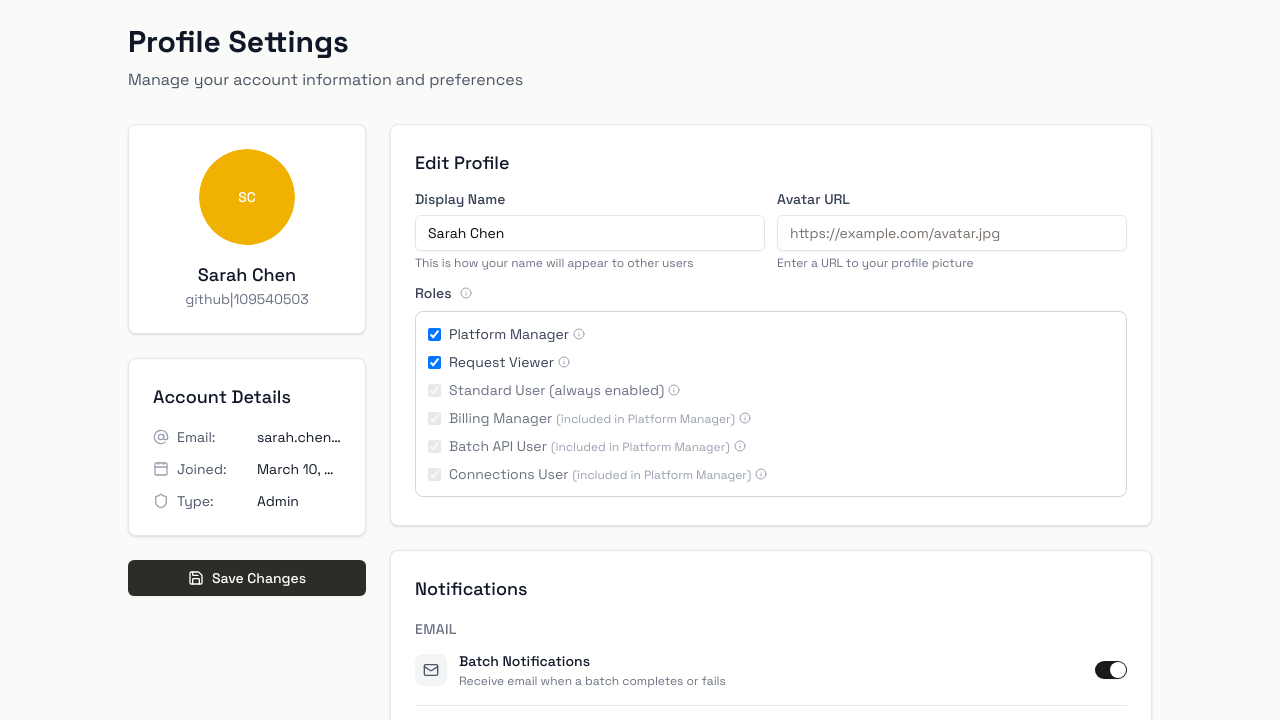
Test case: Profile Component › allows editing display name and avatar url
Expected: the heading "Profile Settings" is shown, [128,22,349,61]
Expected: the field labelled "Avatar URL" is empty, [777,215,1127,251]
Replace the text in the field labelled "Display Name" with "Sarah J. Chen" at coordinates (590, 233), box [415,215,765,251]
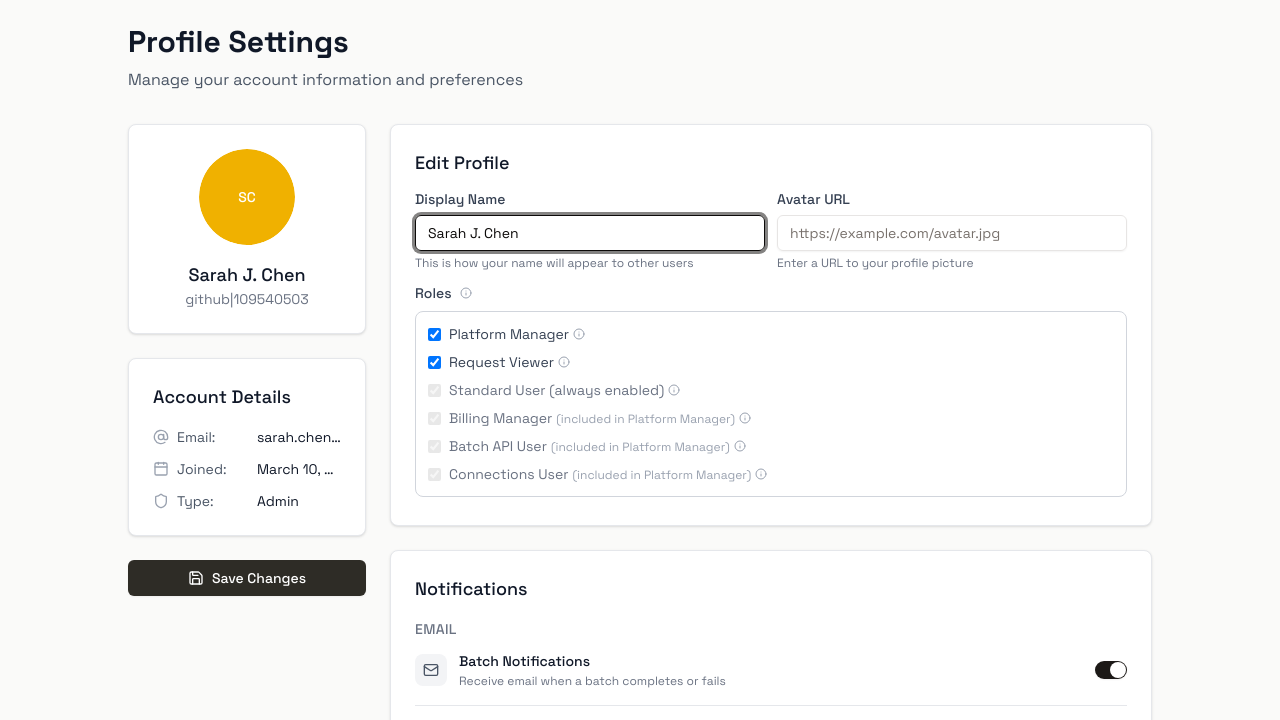
Type "https://example.com/new-avatar.jpg" into the field labelled "Avatar URL" at coordinates (952, 233), box [777,215,1127,251]
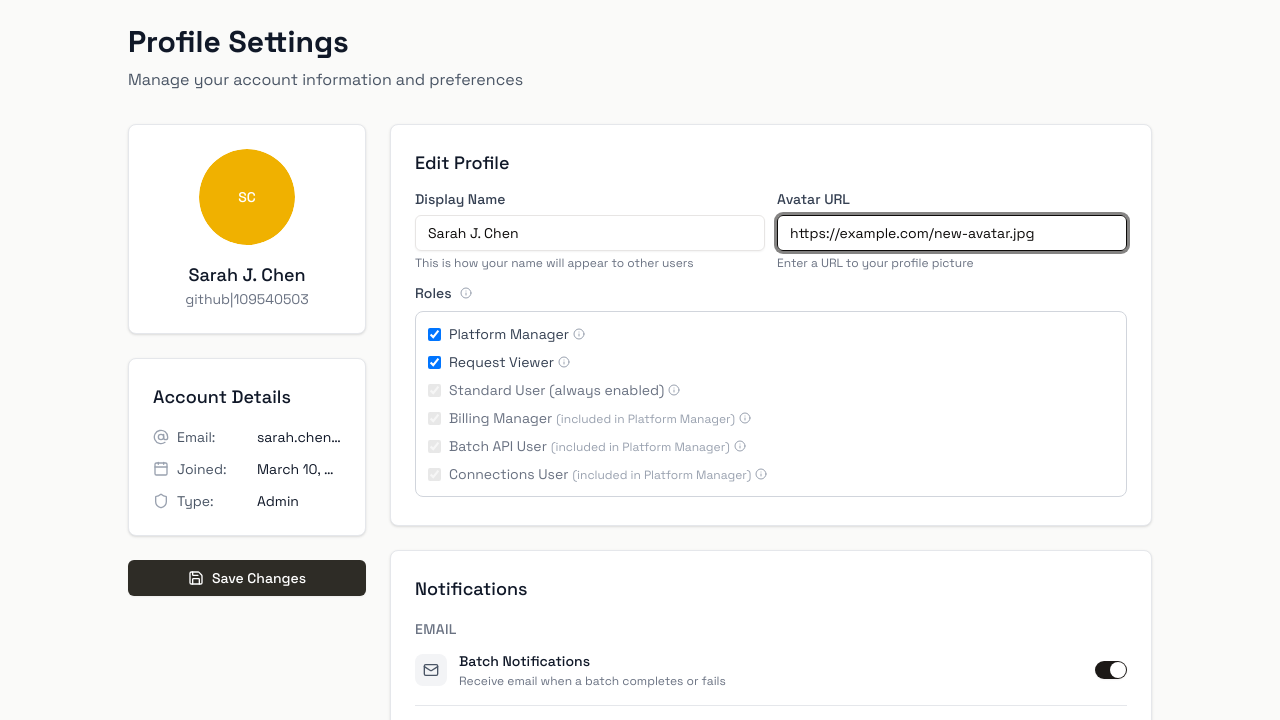
Click the button "Save Changes" at coordinates (247, 578), box [128,560,366,596]
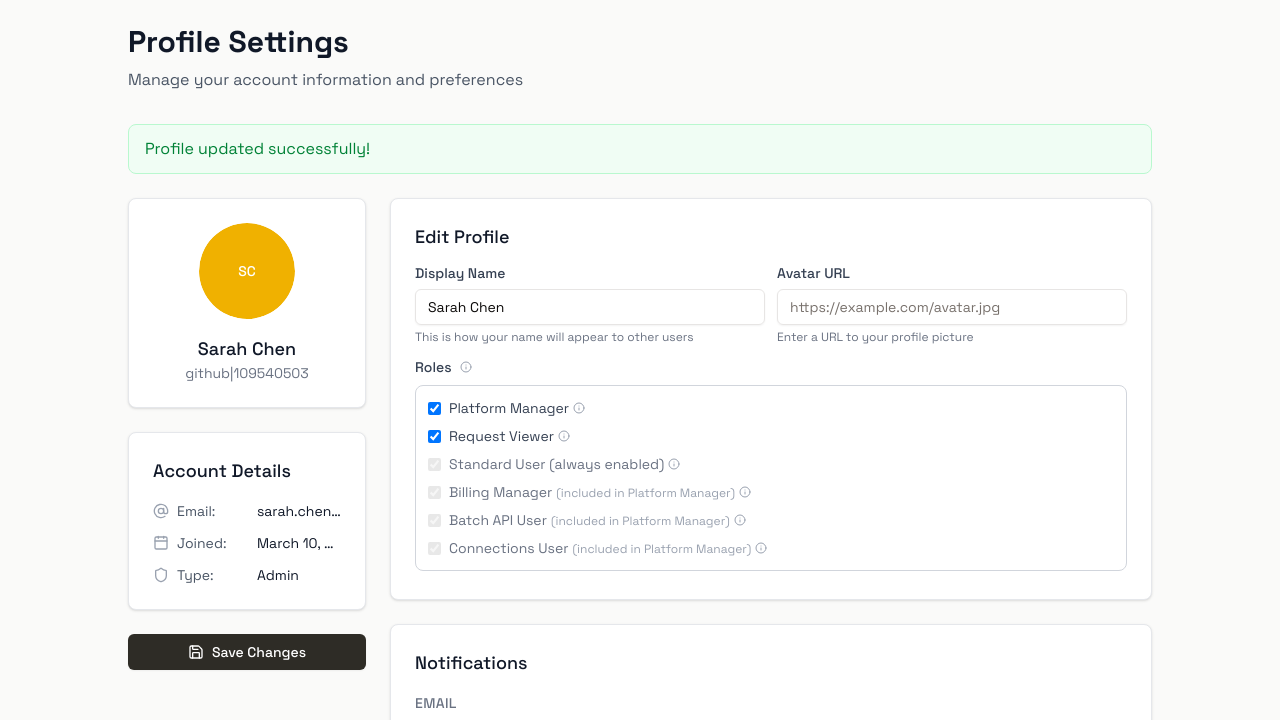
Now the text "Profile updated successfully!" is shown, box [128,124,1152,174]
